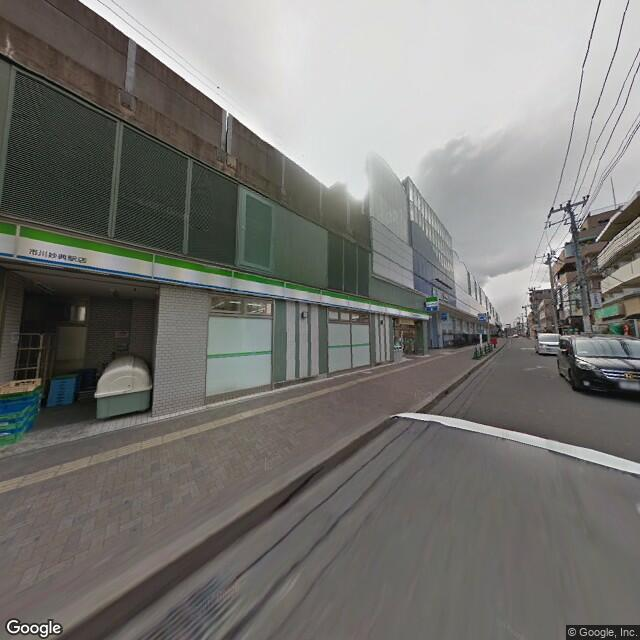family_mart: (1, 222, 431, 324), (422, 294, 441, 317)
